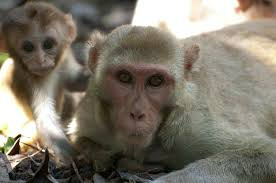monkey: (86, 9, 273, 179), (3, 2, 72, 120)
